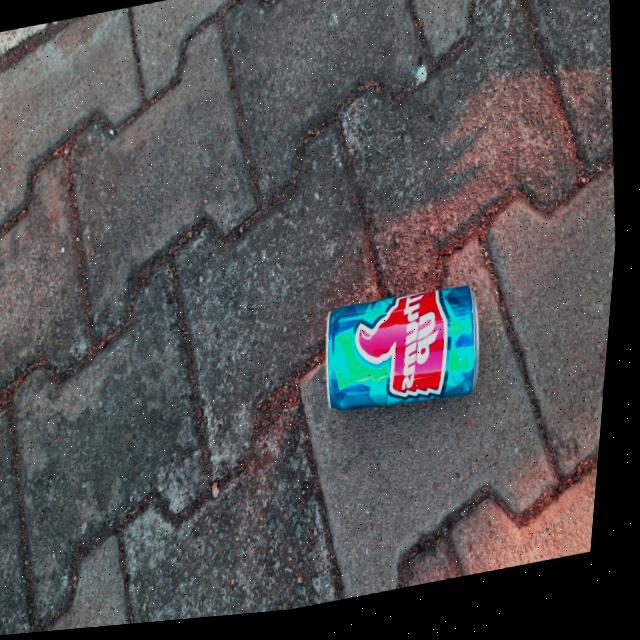Thums Up: (321, 278, 498, 438)
